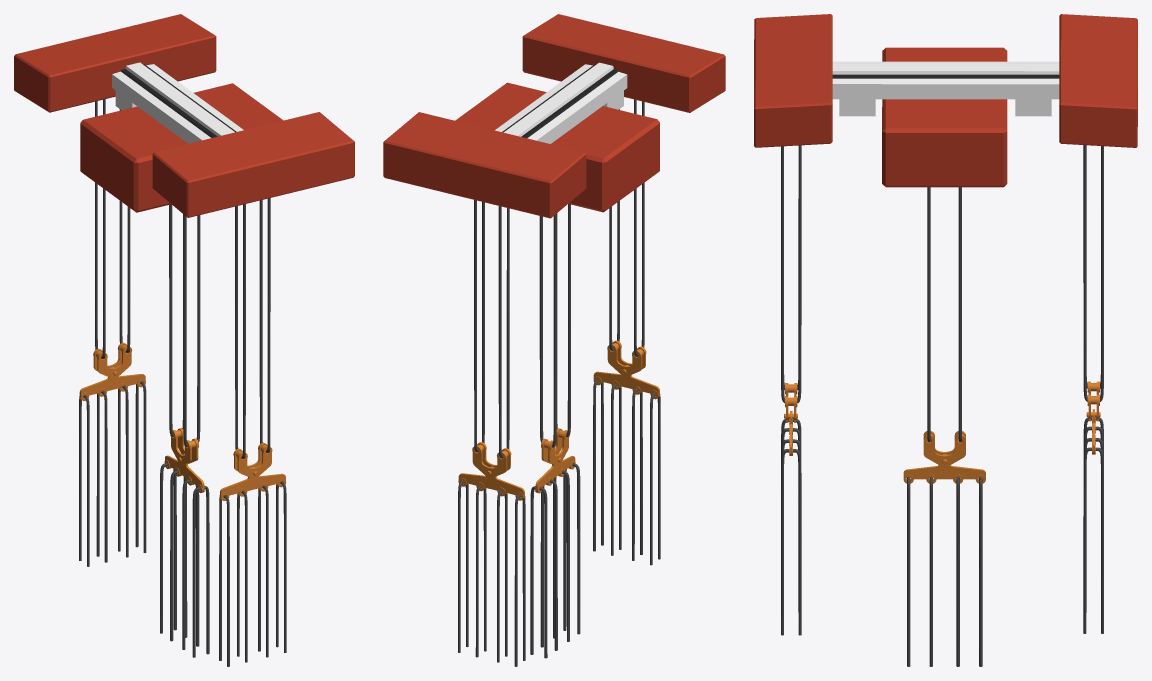
The model's file is goliath_crane_trolley.glb.
3 renders of one model, left to right at view 1: azimuth 30°, elevation 25°; view 2: azimuth 150°, elevation 25°; view 3: azimuth 270°, elevation 25°, orthographic. The views are drawn at different scales.
Visible parts, largest first — view 1: Goliath Crane_Trolley_01 (×2), Goliath Crane_Trolley_02 (×2); view 2: Goliath Crane_Trolley_01 (×2), Goliath Crane_Trolley_02 (×2); view 3: Goliath Crane_Trolley_01 (×2), Goliath Crane_Trolley_02 (×2).
Part boxes in pixels (bbox=[...]): Goliath Crane_Trolley_01 (×2): bbox=[14, 14, 354, 666]; Goliath Crane_Trolley_02 (×2): bbox=[80, 83, 283, 657]; Goliath Crane_Trolley_01 (×2): bbox=[383, 14, 725, 666]; Goliath Crane_Trolley_02 (×2): bbox=[455, 82, 659, 658]; Goliath Crane_Trolley_01 (×2): bbox=[754, 14, 1137, 635]; Goliath Crane_Trolley_02 (×2): bbox=[882, 47, 1007, 666].
Size of the model in its own units: 12.29 by 38.28 by 22.04.
